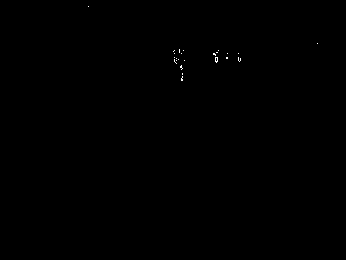person: (171, 48, 188, 85)
